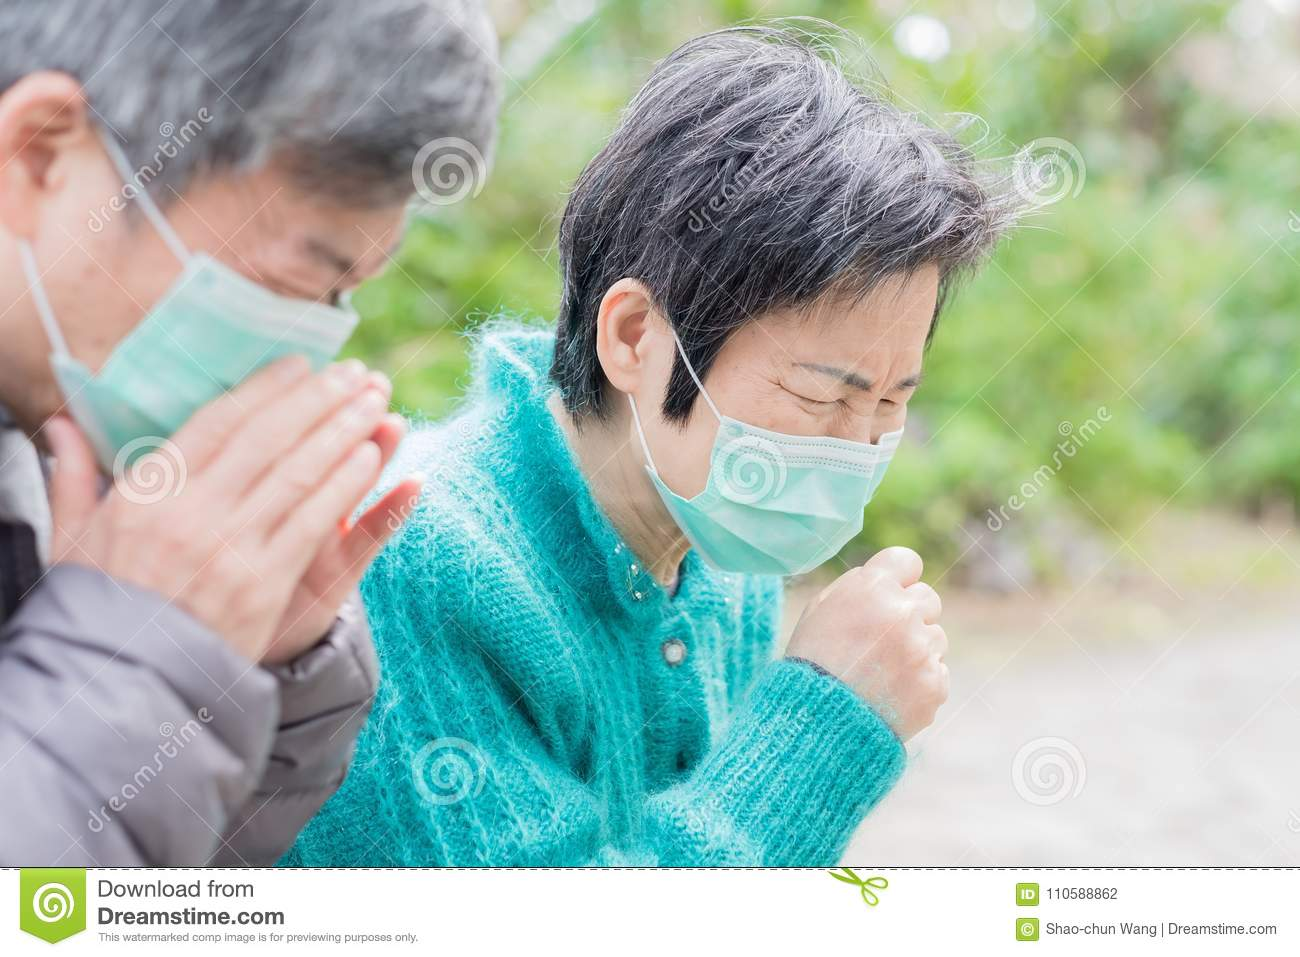mask: (676, 420, 923, 592)
